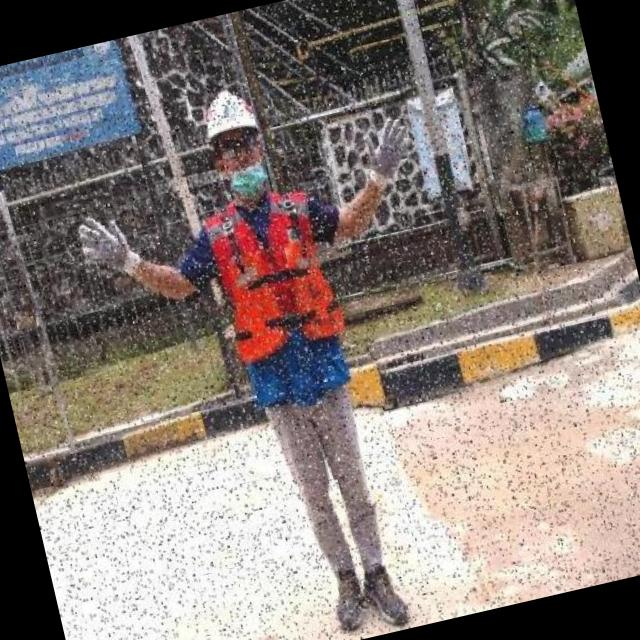hard_hat: (199, 83, 260, 142)
safety_vest: (201, 170, 367, 408)
work_boots: (357, 558, 413, 636), (325, 565, 372, 637)
